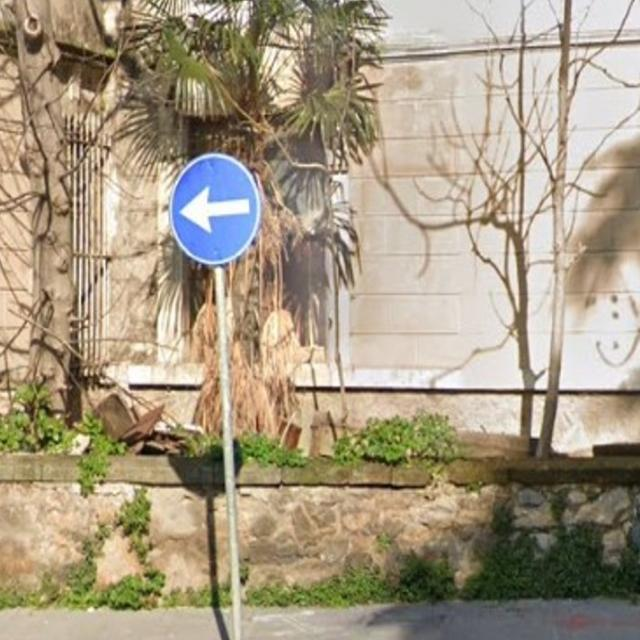Turn Left: (162, 149, 263, 264)
